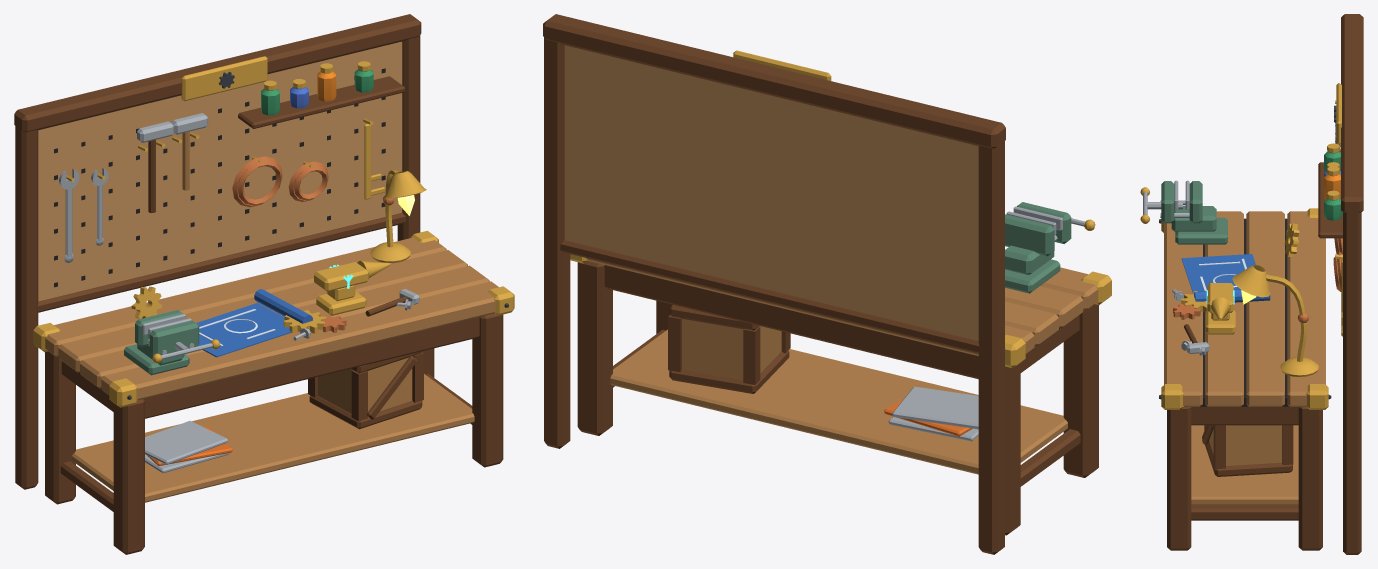
Rendered from prop_workbench.glb.
The picture shows the model from 3 angles, left to right: view 1: azimuth 30°, elevation 25°; view 2: azimuth 150°, elevation 25°; view 3: azimuth 270°, elevation 25°; orthographic projection. The views are drawn at different scales.
Visible parts, largest first — view 1: Workbench; view 2: Workbench; view 3: Workbench.
Boxes of the visible parts, x1,y1,x2,y2 form: Workbench: (14,14,514,554); Workbench: (543,14,1111,554); Workbench: (1140,14,1363,554).
Size of what is drawn, in the model's own units: 2.34 by 2.12 by 1.19.
